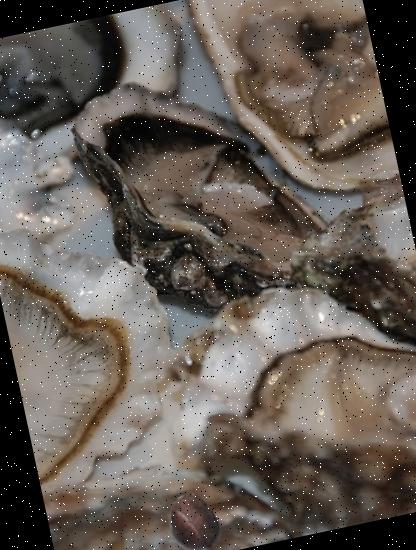Chestnut: (157, 488, 227, 550)
